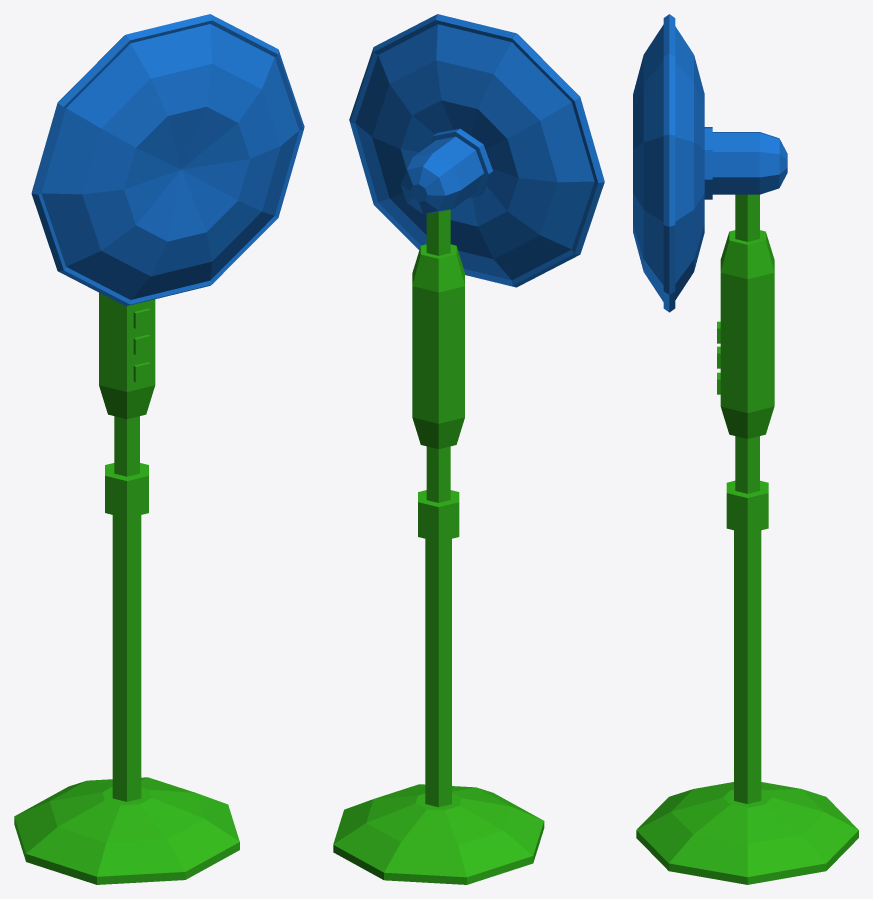
File: SM_floor_fan.fbx
3 renders of one model, left to right at view 1: azimuth 30°, elevation 25°; view 2: azimuth 150°, elevation 25°; view 3: azimuth 270°, elevation 25°, orthographic. The views are drawn at different scales.
Visible parts, largest first — view 1: fan, floor_fan; view 2: fan, floor_fan; view 3: floor_fan, fan.
Boxes of the visible parts, x1,y1,x2,y2 form: fan: (31,14,304,306); floor_fan: (14,293,239,884); fan: (349,14,604,287); floor_fan: (333,209,544,884); floor_fan: (636,194,858,884); fan: (633,14,787,312).
Bounding box in the file's own units: 53.76 × 159 × 40.37.
